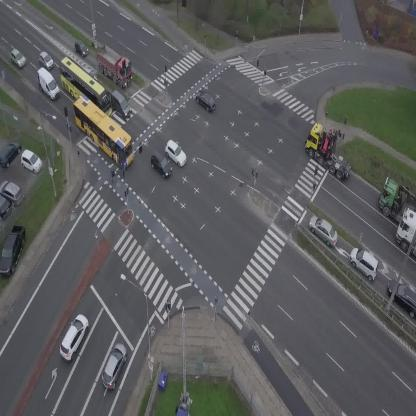bicycle: (110, 170, 116, 184)
bus: (64, 92, 143, 170), (48, 55, 121, 122)
car: (55, 311, 93, 362), (98, 341, 132, 391), (344, 244, 385, 283), (304, 212, 343, 249), (160, 139, 191, 168), (146, 150, 176, 179), (106, 89, 135, 118), (192, 87, 220, 113), (6, 47, 28, 71), (70, 37, 91, 60), (35, 49, 56, 71), (86, 67, 95, 76)
lorry: (297, 117, 368, 183), (87, 41, 141, 91), (31, 65, 63, 103), (396, 208, 416, 256)
